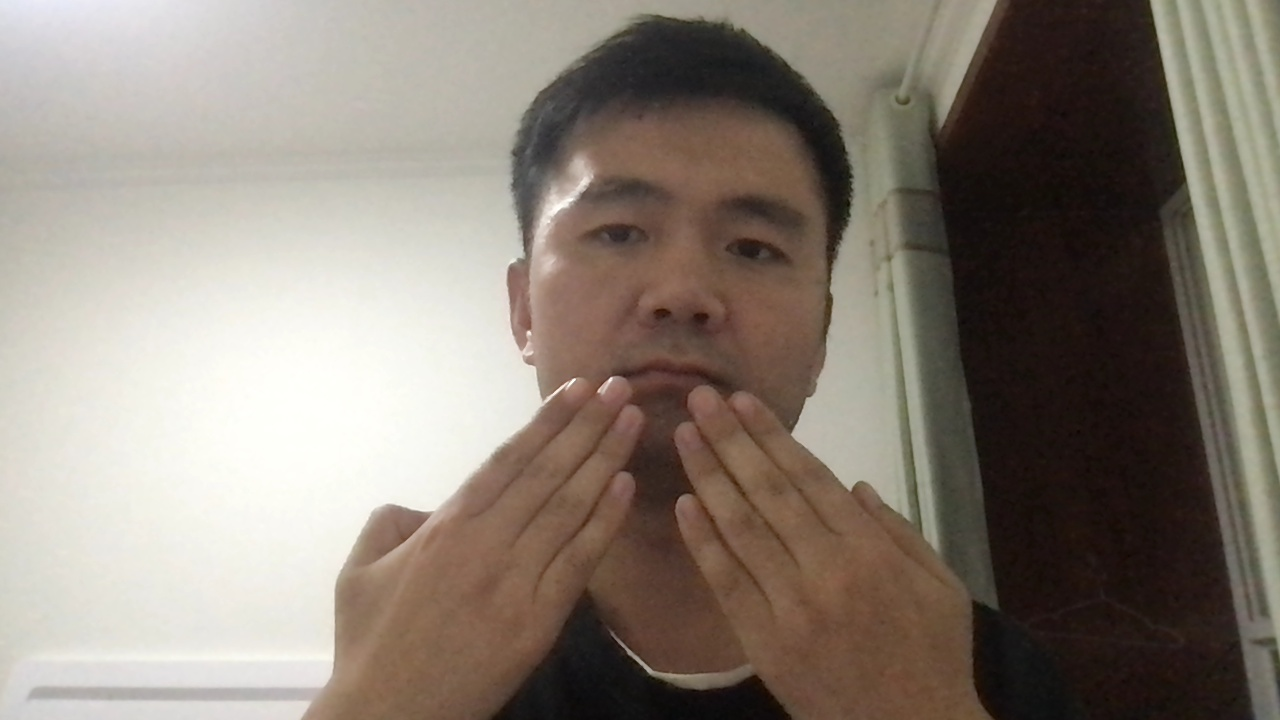thanks: (302, 352, 990, 720)
